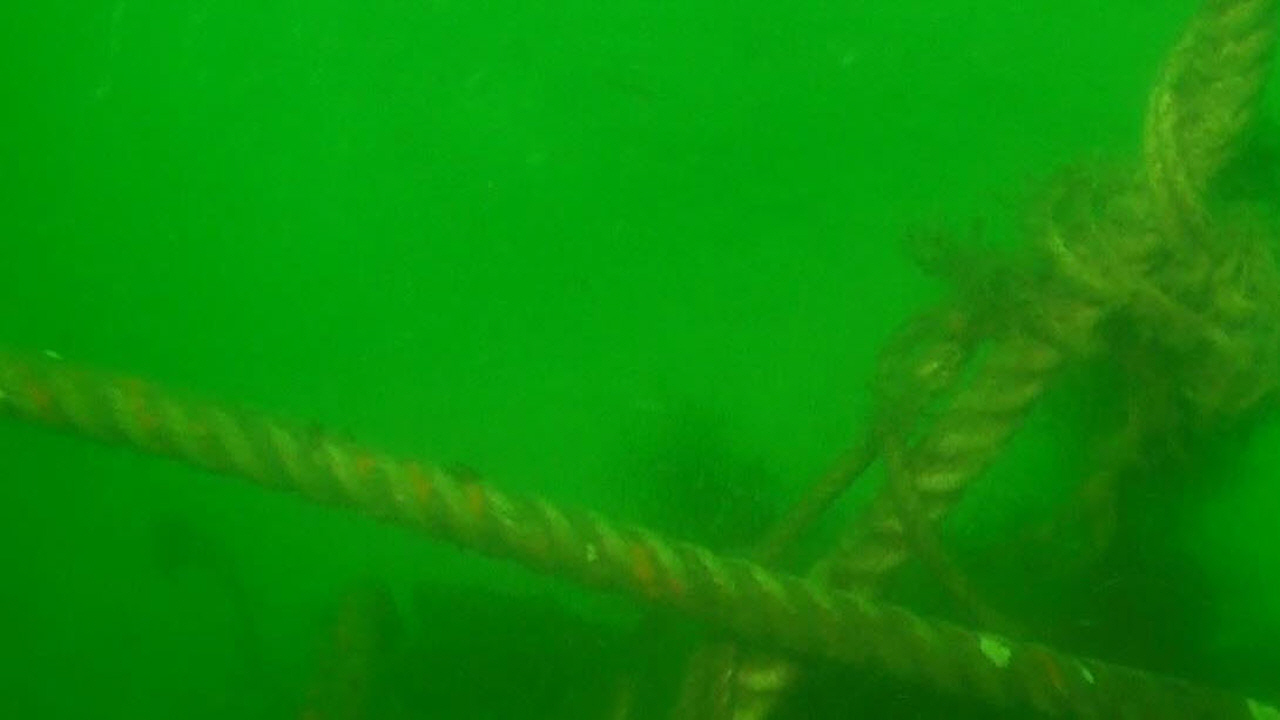bundle of ropes: (706, 2, 1280, 720)
rope: (0, 357, 1280, 720)
